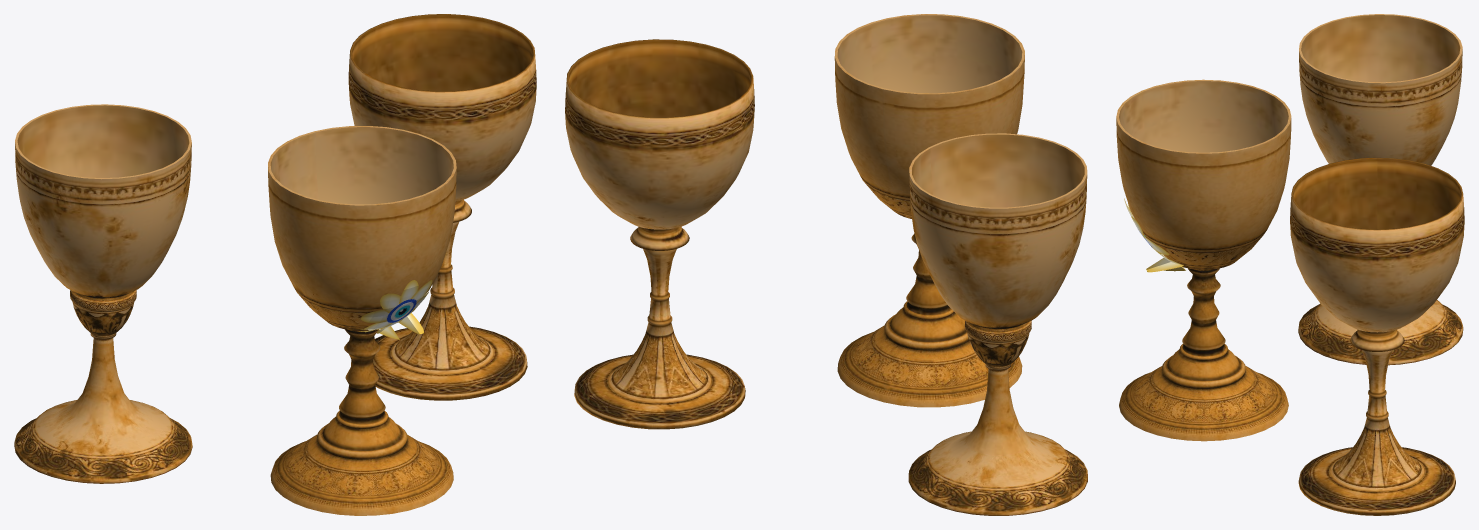
The model's file is nyb_fisherking_grail.glb.
3 views of the same model, side by side, from view 1: azimuth 30°, elevation 25°; view 2: azimuth 150°, elevation 25°; view 3: azimuth 270°, elevation 25° (orthographic). The views are drawn at different scales.
Visible parts, largest first — view 1: brass_goblet_01, stk_eyeflower_gold.png; view 2: brass_goblet_01; view 3: brass_goblet_01, stk_eyeflower_gold.png.
Part boxes in pixels (x1,y1,x2,y2): brass_goblet_01: [14, 14, 536, 515]; stk_eyeflower_gold.png: [359, 280, 432, 339]; brass_goblet_01: [565, 14, 1087, 515]; brass_goblet_01: [1116, 14, 1464, 515]; stk_eyeflower_gold.png: [1124, 198, 1185, 272].
Bounding box in the file's own units: 0.4534 × 0.2734 × 0.2976.
4 materials, 4 textured.
